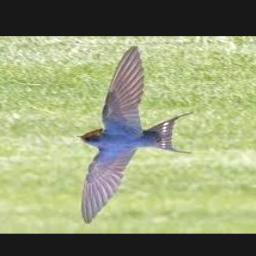Swallow: (77, 45, 193, 224)
